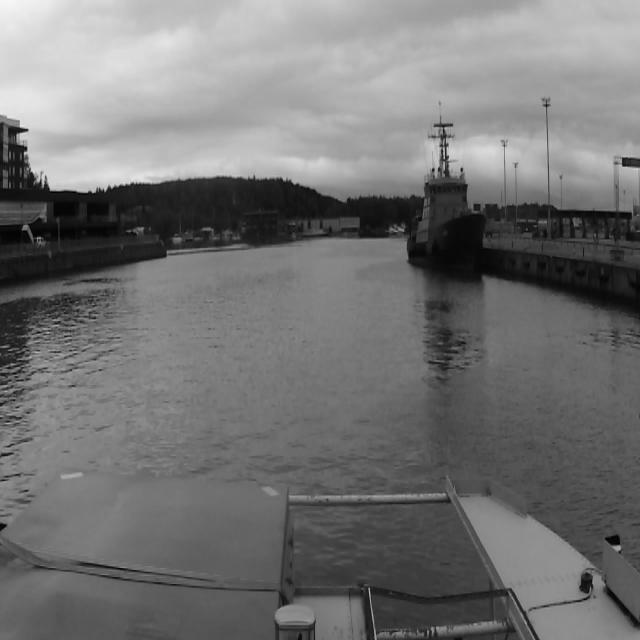ship: (406, 100, 486, 274)
